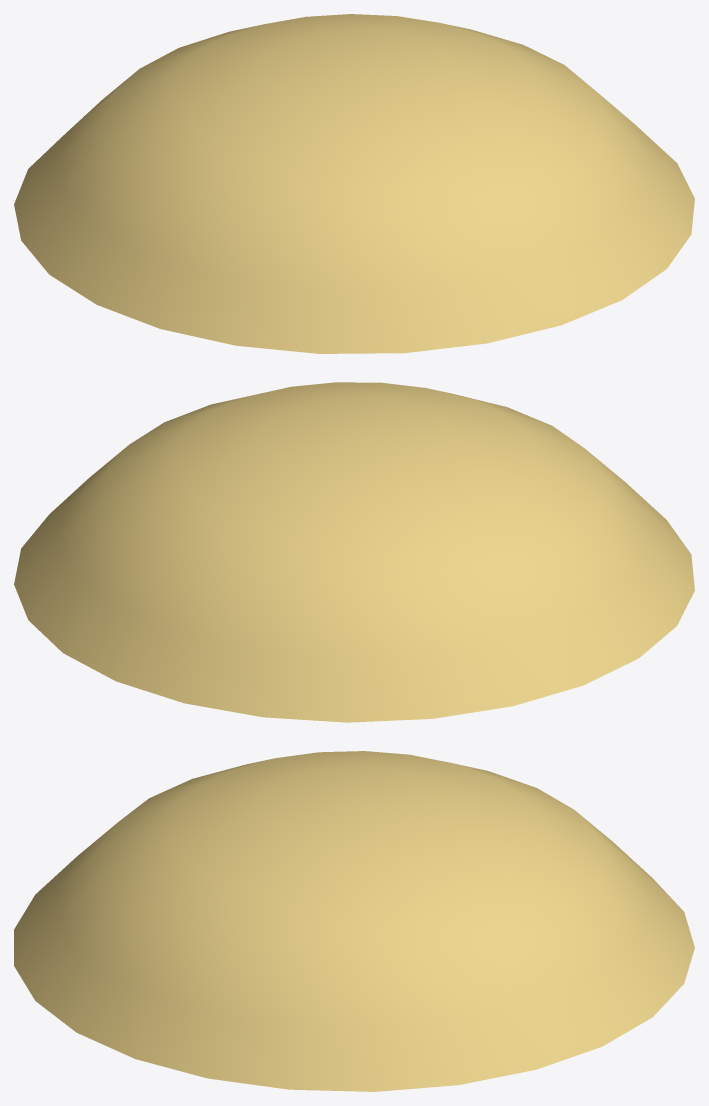
Rendered from SandDune.fbx.
3 views of the same model, one above another, from view 1: azimuth 30°, elevation 25°; view 2: azimuth 150°, elevation 25°; view 3: azimuth 270°, elevation 25° (orthographic).
Visible parts, largest first — view 1: SandDune; view 2: SandDune; view 3: SandDune.
Boxes of the visible parts, box(x1,y1,x2,y2) form: SandDune: box(14, 14, 694, 353); SandDune: box(14, 382, 694, 722); SandDune: box(14, 751, 694, 1091).
Bounding box in the file's own units: 248 × 59.25 × 248.
